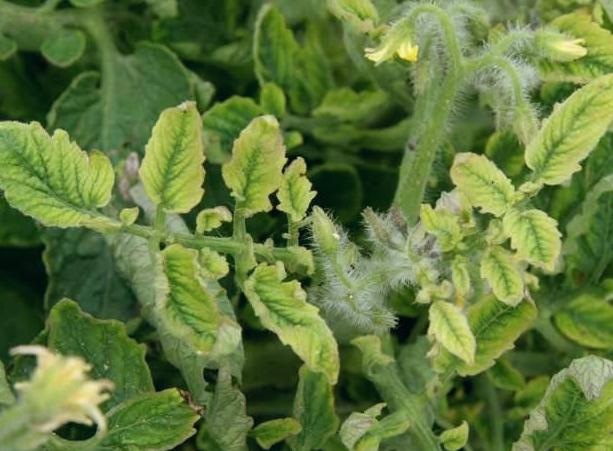Tomato leaf yellow virus: (0, 107, 124, 240), (240, 260, 346, 398), (525, 70, 613, 211), (149, 237, 233, 379), (148, 94, 205, 218), (509, 204, 575, 310), (445, 136, 520, 228), (227, 96, 278, 206), (421, 303, 486, 378)
